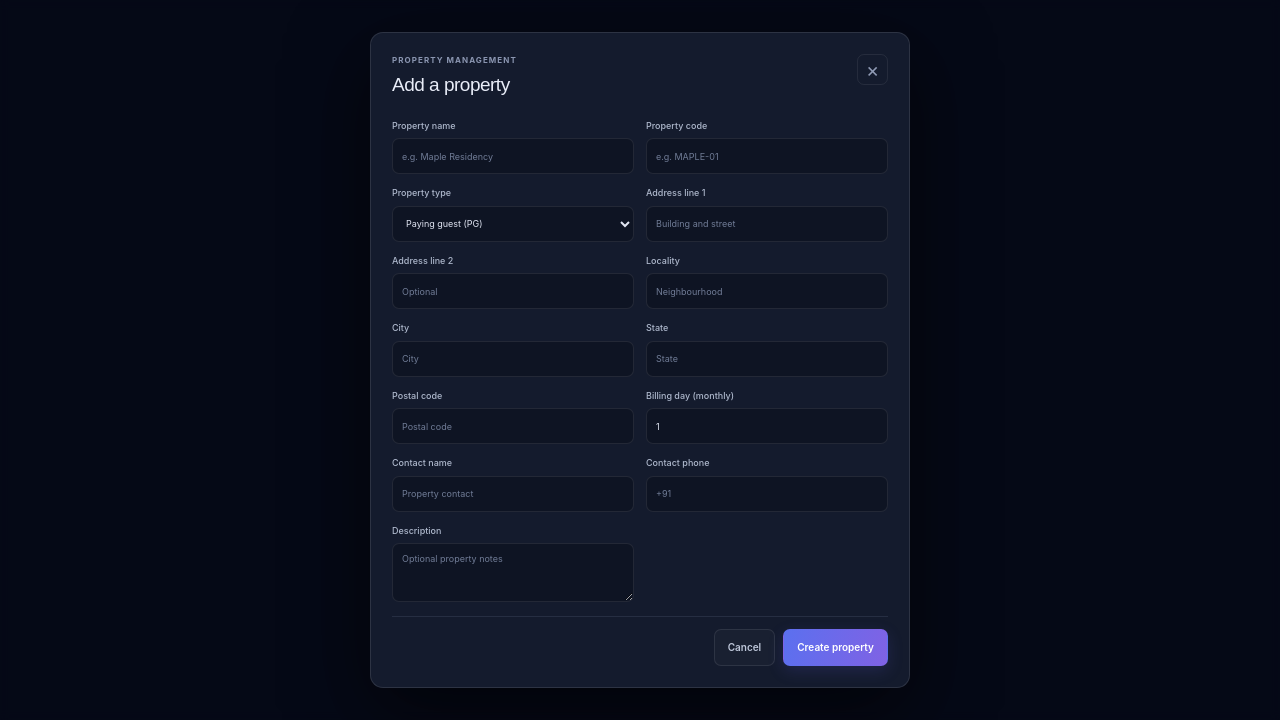
Test: property forms › shows accessible field validation before submitting
This screenshot has width=1280, height=720.
What coordinates should you click on to do the following:
click the button "Create property"
I would click on:
 (836, 647)
Its box is [783,629,888,666].
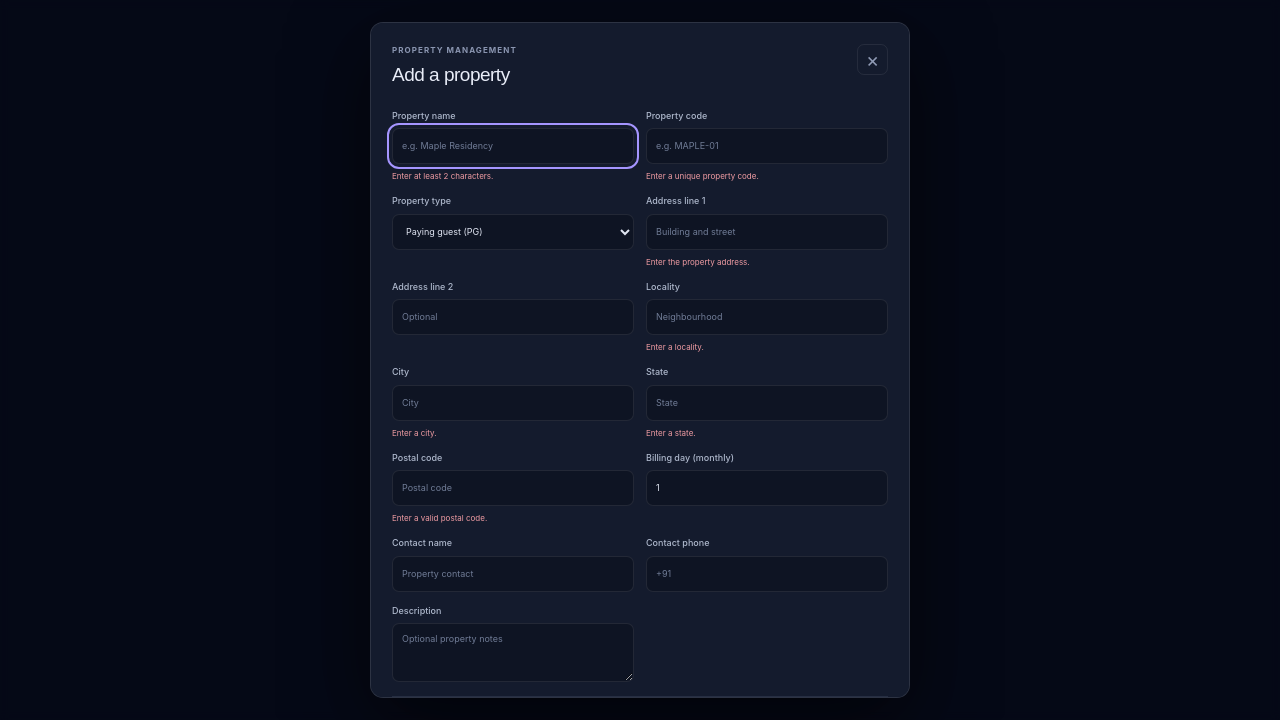
Expected: the text "Enter at least 2 characters." is shown, [392,171,493,181]
Expected: the text "Enter the property address." is shown, [646,256,750,266]
